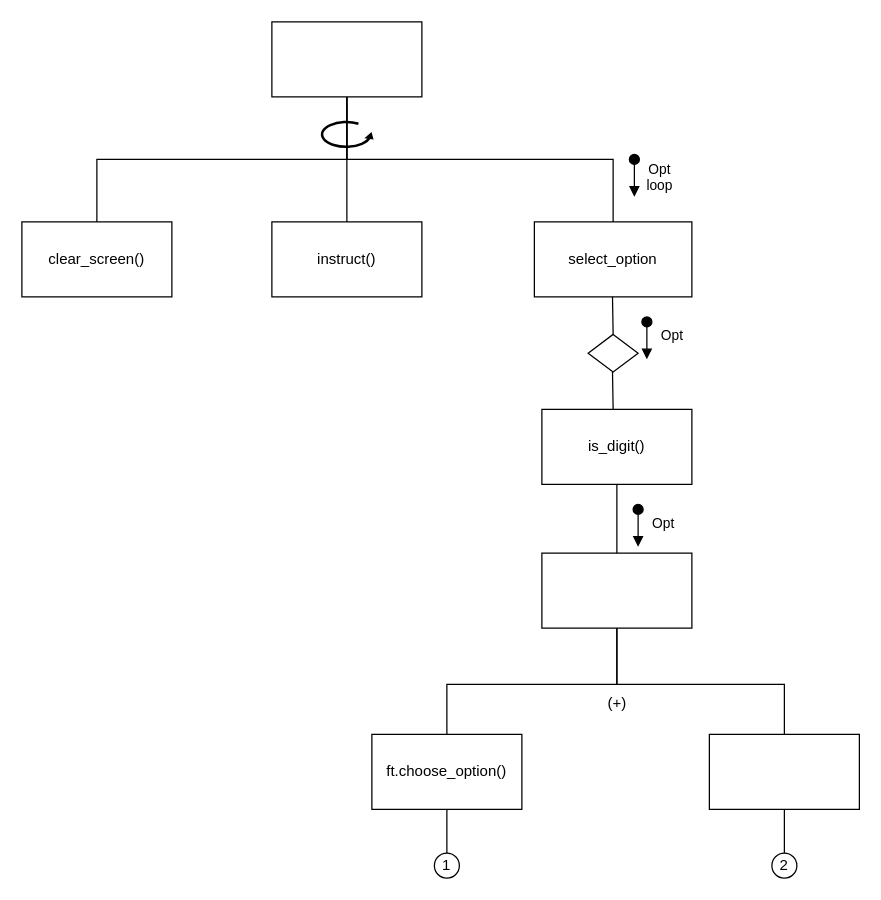
Image size: 881x900. Some labels were removed from this diagram. The shapes that lost their labels are listed below. From the top down, each one's centre as x and y in pixels, then its label:
At [346,59]: "main()".
At [616,590]: "select opt".
At [783,771]: "ft.choose_option_r()".
